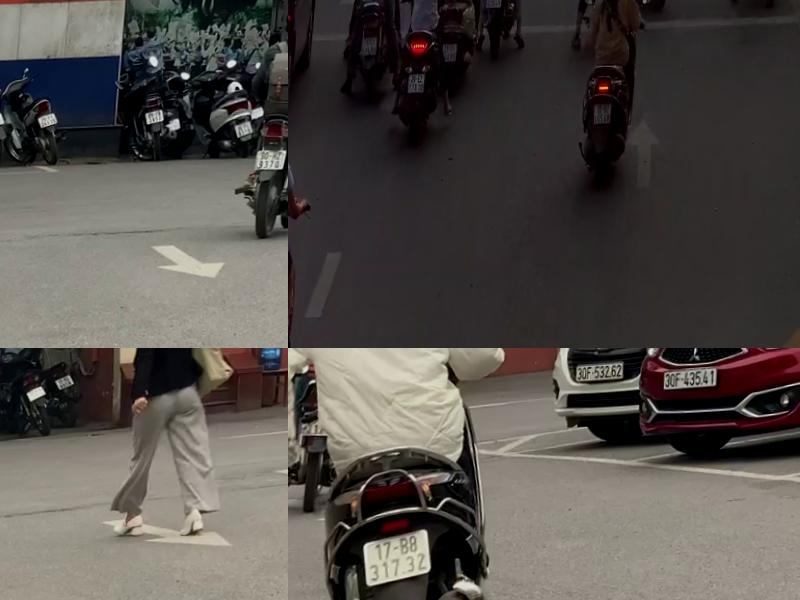license_plate: (364, 529, 444, 589), (254, 151, 288, 183), (27, 385, 52, 406), (144, 113, 168, 133), (57, 376, 79, 396), (235, 127, 256, 146), (598, 107, 616, 129), (411, 76, 429, 96), (40, 114, 59, 132), (445, 46, 461, 65), (364, 38, 380, 56), (488, 0, 506, 12), (0, 113, 6, 131)
motorcyclist: (288, 348, 527, 600), (582, 0, 650, 187), (237, 12, 288, 248), (400, 0, 460, 137), (288, 104, 321, 348), (352, 0, 407, 109), (478, 0, 540, 60), (574, 0, 627, 52)
